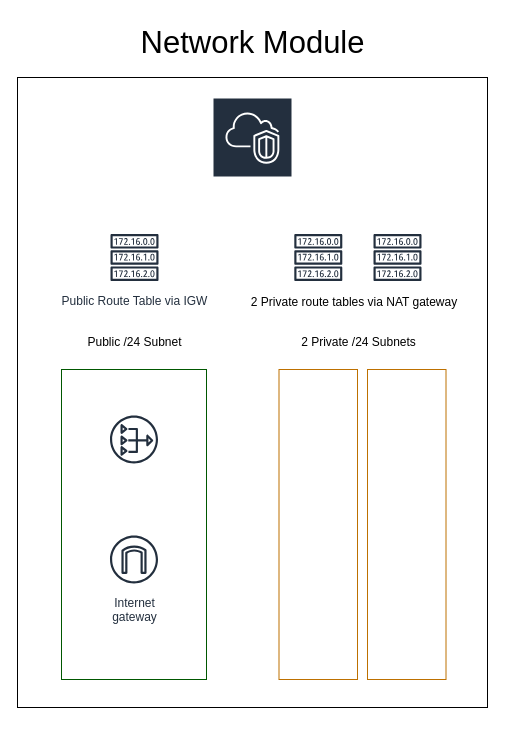
Some shapes in this 505 by 733 pixel diagram are drawn without their labels. Here are the shapes that lost their labels. From the top down, the centre of each, then its label:
[252,147]: Amazon VPC
[133,439]: NAT gateway
